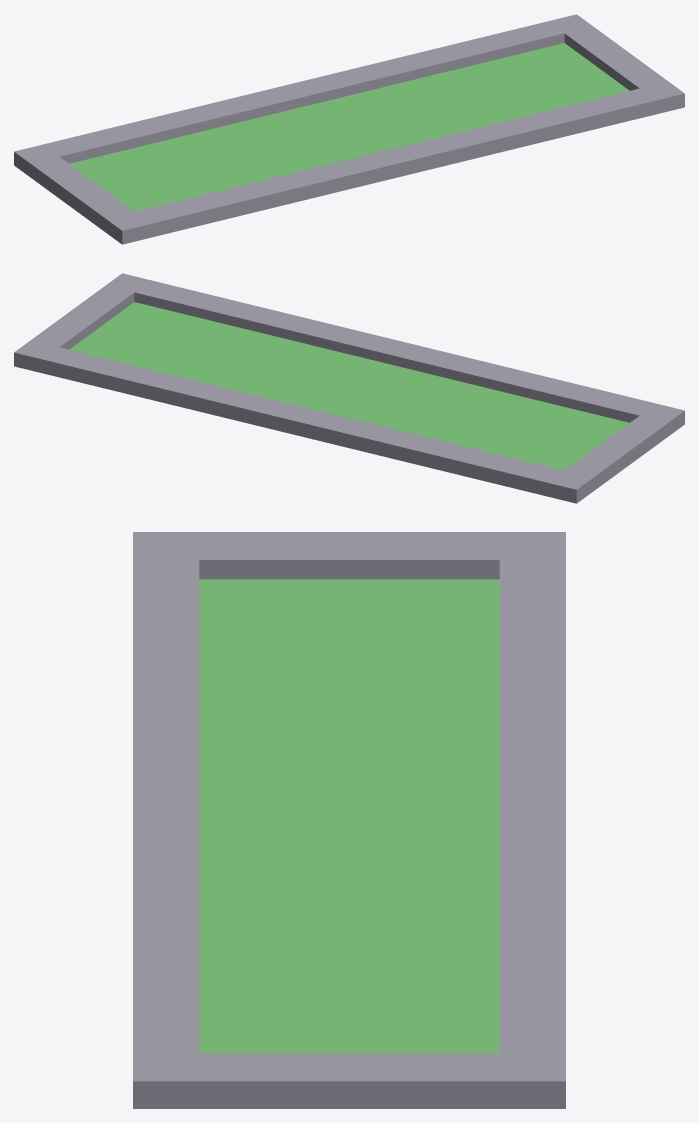
Rendered from Grass_And_Base_M.fbx.
The picture shows the model from 3 angles, top to bottom: view 1: azimuth 30°, elevation 25°; view 2: azimuth 150°, elevation 25°; view 3: azimuth 270°, elevation 25°; orthographic projection. The views are drawn at different scales.
Visible parts, largest first — view 1: Grass_Block_03_M, Grass_Block_01_M, Mid_Grass_Block_02_M; view 2: Grass_Block_03_M, Grass_Block_01_M, Mid_Grass_Block_02_M; view 3: Grass_Block_01_M, Grass_Block_03_M, Mid_Grass_Block_02_M.
Boxes of the visible parts, bbox=[...] form: Grass_Block_03_M: bbox=[14, 106, 309, 244]; Grass_Block_01_M: bbox=[389, 14, 684, 152]; Mid_Grass_Block_02_M: bbox=[202, 60, 497, 198]; Grass_Block_03_M: bbox=[389, 365, 684, 503]; Grass_Block_01_M: bbox=[14, 273, 309, 411]; Mid_Grass_Block_02_M: bbox=[201, 319, 496, 457]; Grass_Block_01_M: bbox=[133, 898, 565, 1108]; Grass_Block_03_M: bbox=[133, 532, 565, 734]; Mid_Grass_Block_02_M: bbox=[133, 715, 565, 917].
Size of the model in its own units: 3 by 0.0707 by 1.
Materials: 1 (1 with a texture image).
